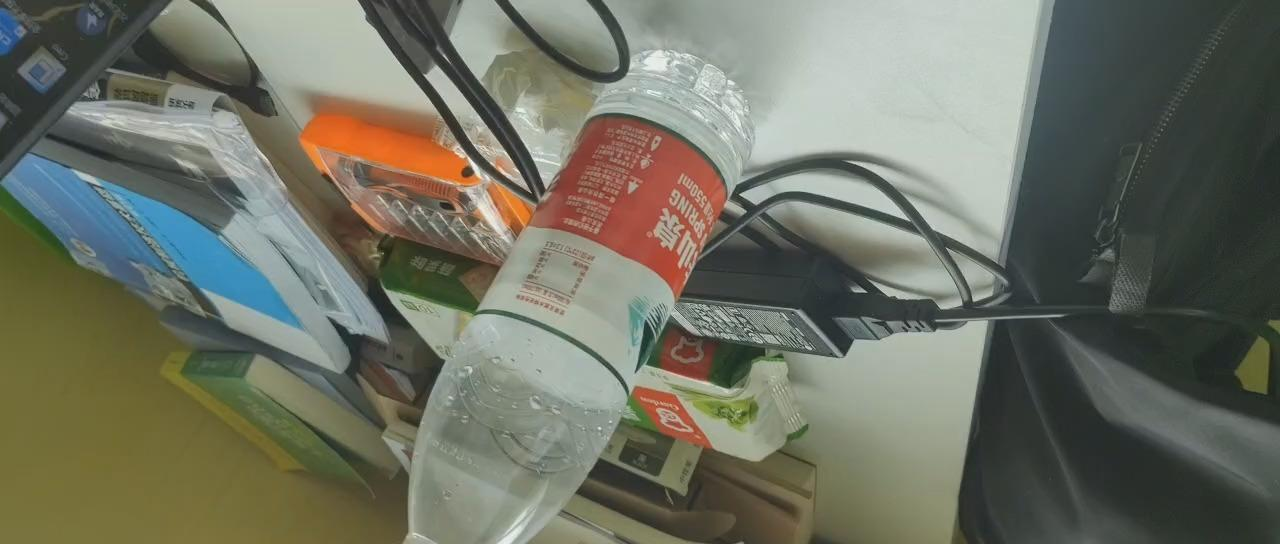BIODEGRADABLE: (395, 45, 755, 544)
